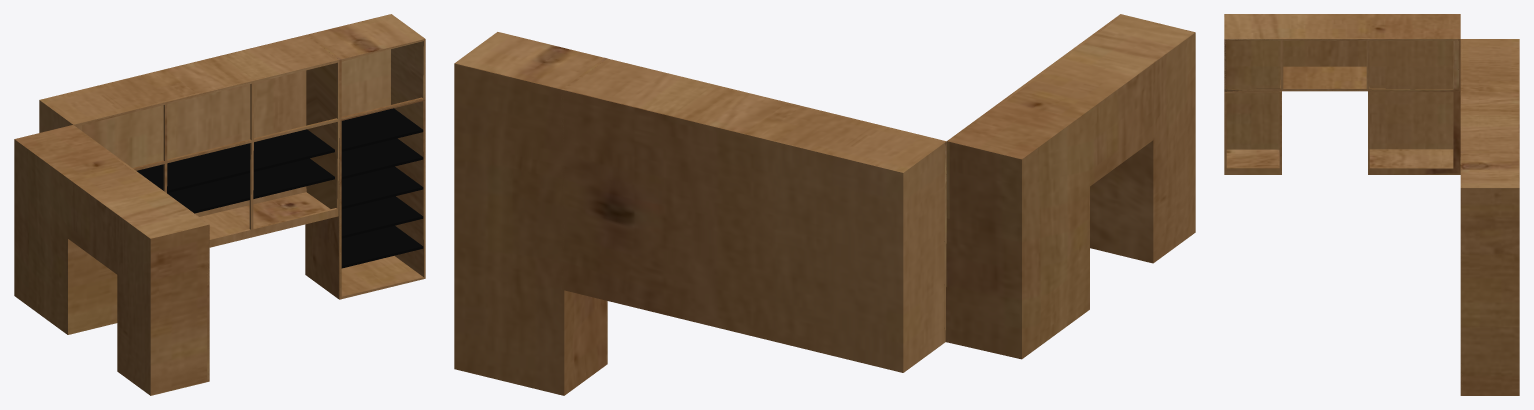
The model's file is cabinv5.gltf.
The picture shows the model from 3 angles, left to right: view 1: azimuth 30°, elevation 25°; view 2: azimuth 150°, elevation 25°; view 3: azimuth 270°, elevation 25°; orthographic projection. The views are drawn at different scales.
Visible parts, largest first — view 1: Main.001; view 2: Main.001; view 3: Main.001.
Boxes of the visible parts, left/top/right/bottom form: Main.001: left=14, top=14, right=425, bottom=395; Main.001: left=454, top=14, right=1195, bottom=395; Main.001: left=1224, top=14, right=1519, bottom=395.
Bounding box in the file's own units: 14.28 × 7.96 × 10.24.
1 material, 1 textured.
